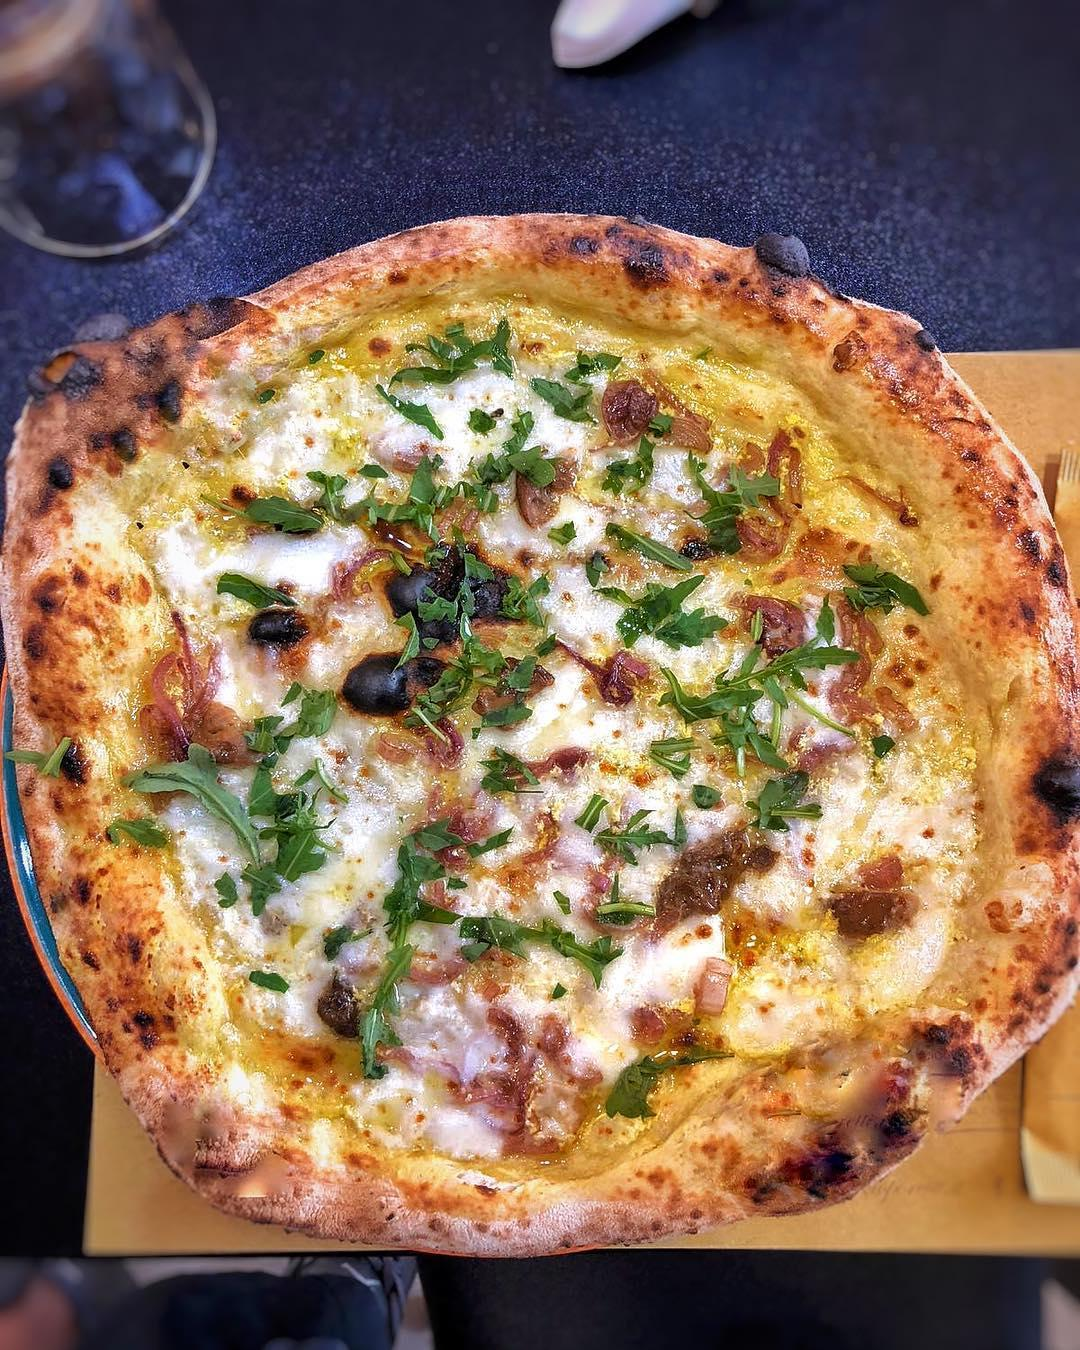Arugula: (115, 670, 347, 921), (618, 622, 863, 770), (350, 817, 465, 1089), (394, 552, 555, 734), (369, 420, 559, 546), (581, 525, 711, 644), (457, 905, 620, 999), (216, 453, 359, 548), (670, 453, 784, 569), (382, 313, 522, 386), (603, 1045, 737, 1121), (825, 554, 948, 630), (563, 793, 682, 866), (523, 339, 624, 422), (594, 411, 677, 500), (452, 741, 561, 807), (740, 781, 829, 840), (0, 721, 74, 790), (204, 562, 299, 611), (99, 807, 178, 865), (382, 383, 451, 448), (637, 729, 700, 784), (237, 952, 298, 1001), (458, 821, 526, 863), (318, 915, 370, 968), (455, 401, 514, 439), (689, 780, 720, 814)
Olives: (443, 535, 516, 621), (342, 643, 414, 720), (379, 555, 447, 623), (246, 601, 310, 651), (401, 614, 460, 655)
Pizza: (0, 210, 1080, 1267)
